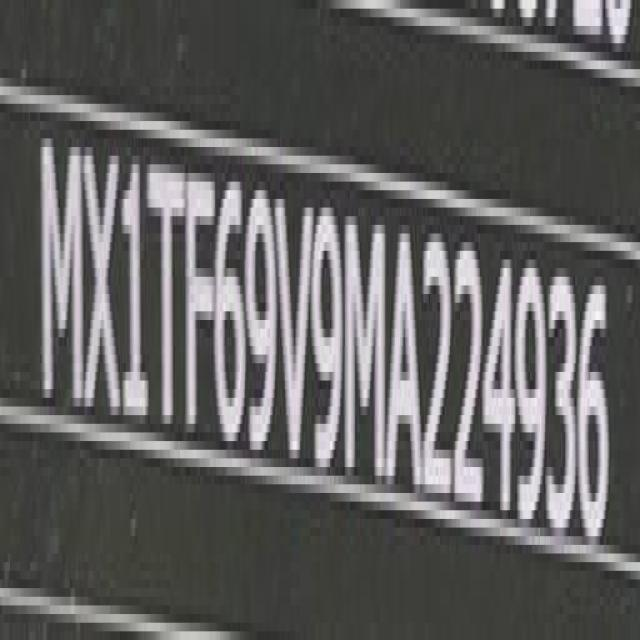1: (122, 132, 150, 432)
2: (424, 219, 454, 509), (457, 231, 484, 515)
3: (551, 265, 580, 542)
4: (483, 237, 515, 524)
6: (581, 276, 616, 554), (214, 176, 246, 457)
9: (312, 194, 343, 485), (516, 255, 548, 531), (248, 180, 278, 463)
A: (389, 211, 425, 496)
F: (188, 165, 218, 450)
M: (38, 120, 86, 423), (344, 205, 388, 491)
T: (150, 155, 183, 446)
V: (280, 183, 314, 477)
X: (85, 139, 121, 433)
